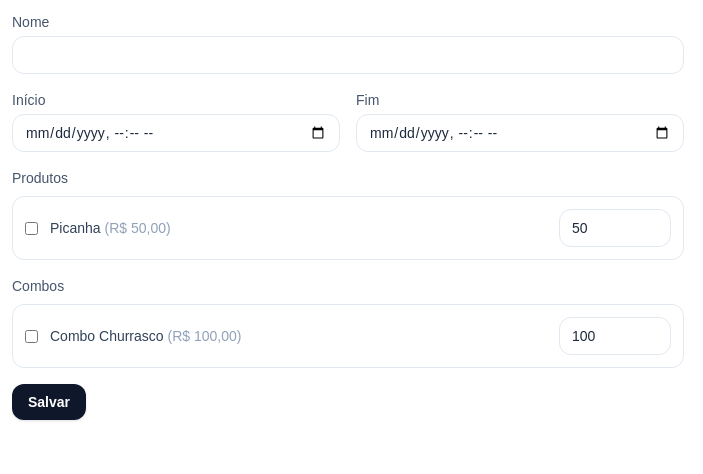
Test case: PromocaoForm › exibe a mensagem de erro retornada pela action
The image size is (703, 474).
Type "Promoção Teste" into the field labelled "Nome". click: x=348, y=55
box: [12, 36, 684, 74]
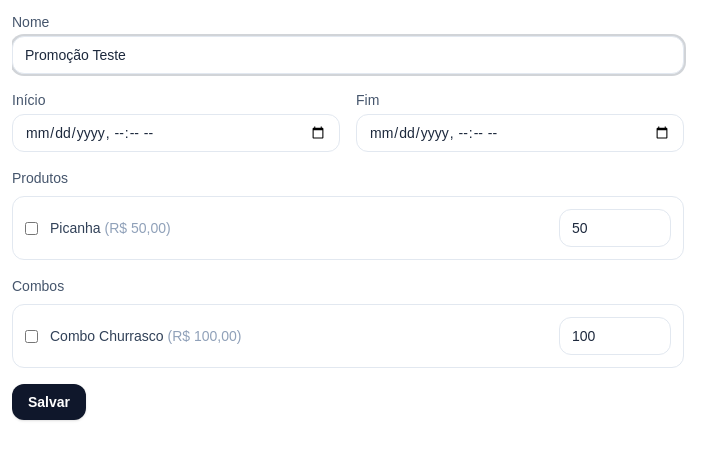
Type "2026-01-01T10:00" into the field labelled "Início". click: x=176, y=133
box: [12, 114, 340, 152]
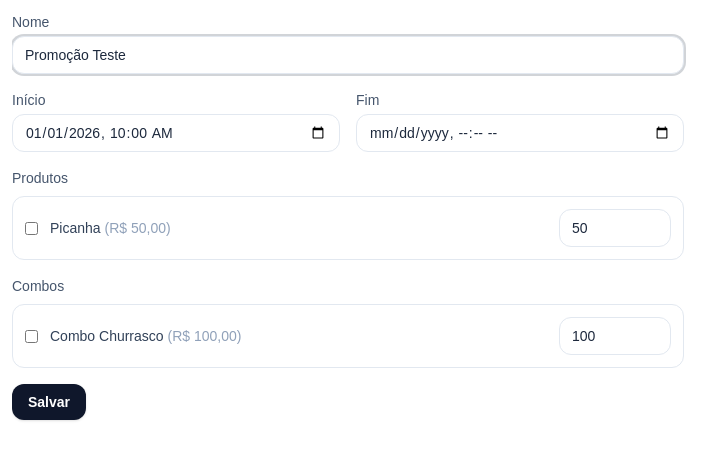
Type "2026-01-10T10:00" into the field labelled "Fim". click: x=520, y=133
box: [356, 114, 684, 152]
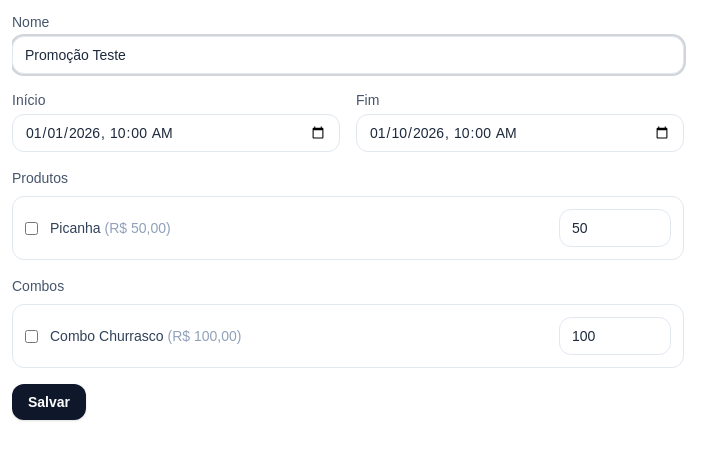
Click the button "Salvar". click: x=49, y=402
box: [12, 384, 86, 420]
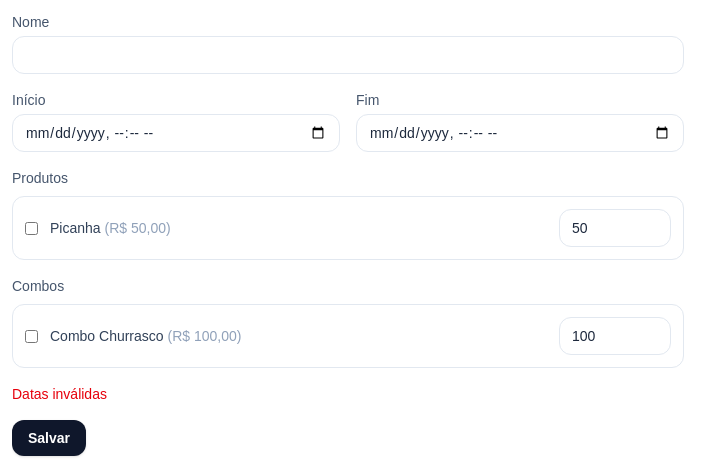
Result: the text "Datas inválidas" is shown at [12, 386, 107, 402]
